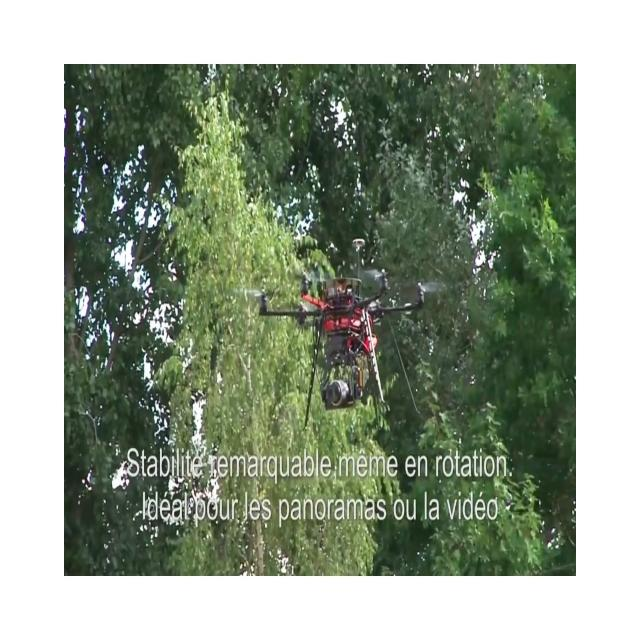drone: (234, 236, 444, 431)
